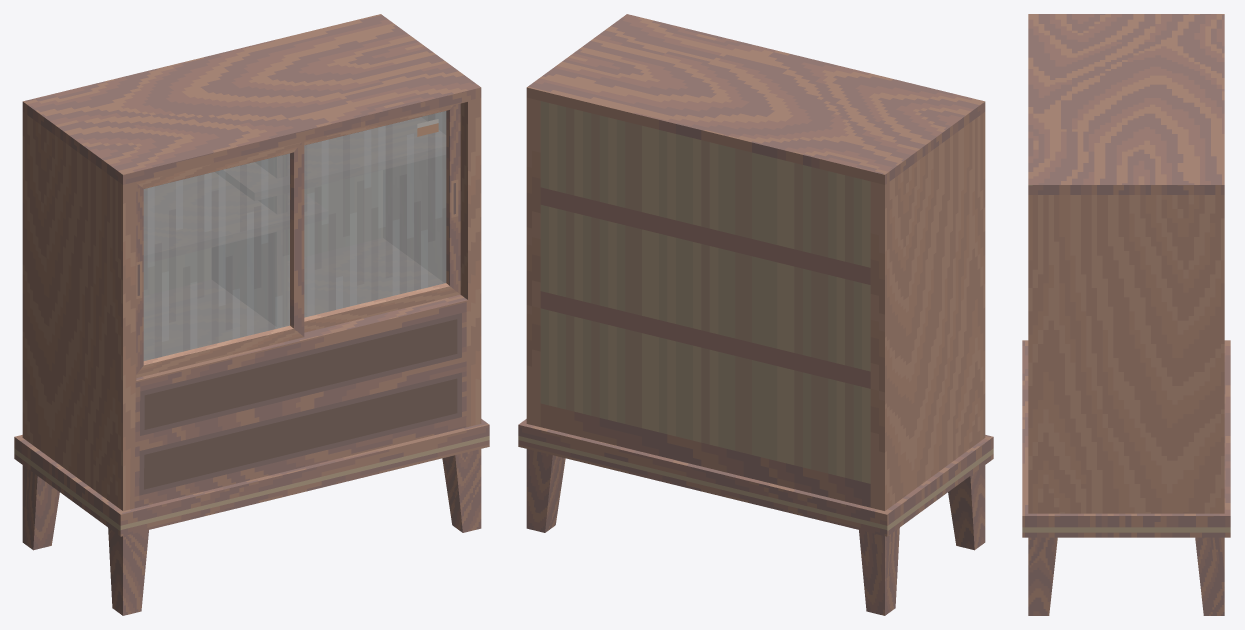
The model's file is 050b_Cabinet.glb.
3 views of the same model, side by side, from view 1: azimuth 30°, elevation 25°; view 2: azimuth 150°, elevation 25°; view 3: azimuth 270°, elevation 25° (orthographic). The views are drawn at different scales.
Parts seen in each view (by area): view 1: part_0; view 2: part_0; view 3: part_0.
Boxes of the visible parts, bbox=[...] form: part_0: bbox=[14, 14, 489, 615]; part_0: bbox=[518, 14, 993, 615]; part_0: bbox=[1022, 14, 1230, 615].
Size of the model in its own units: 0.7 by 0.8 by 0.35.
Materials: 1 (1 with a texture image).
